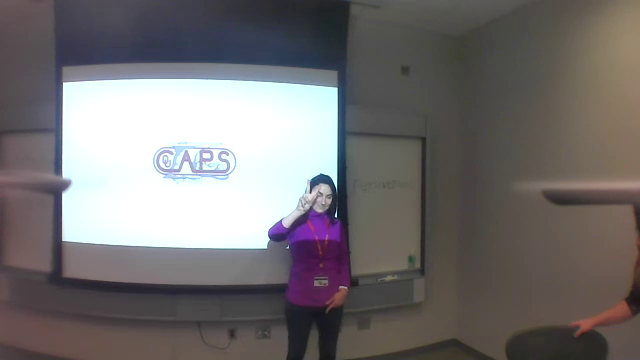peace: (294, 173, 324, 220)
